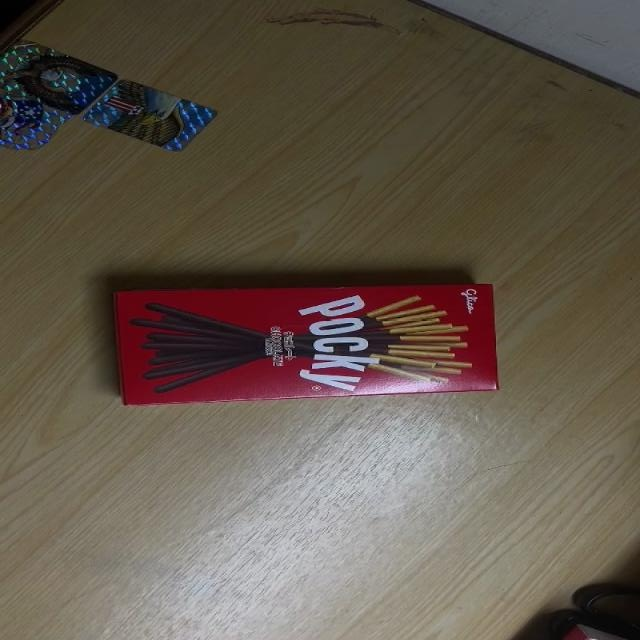Pocky: (111, 280, 502, 408)
